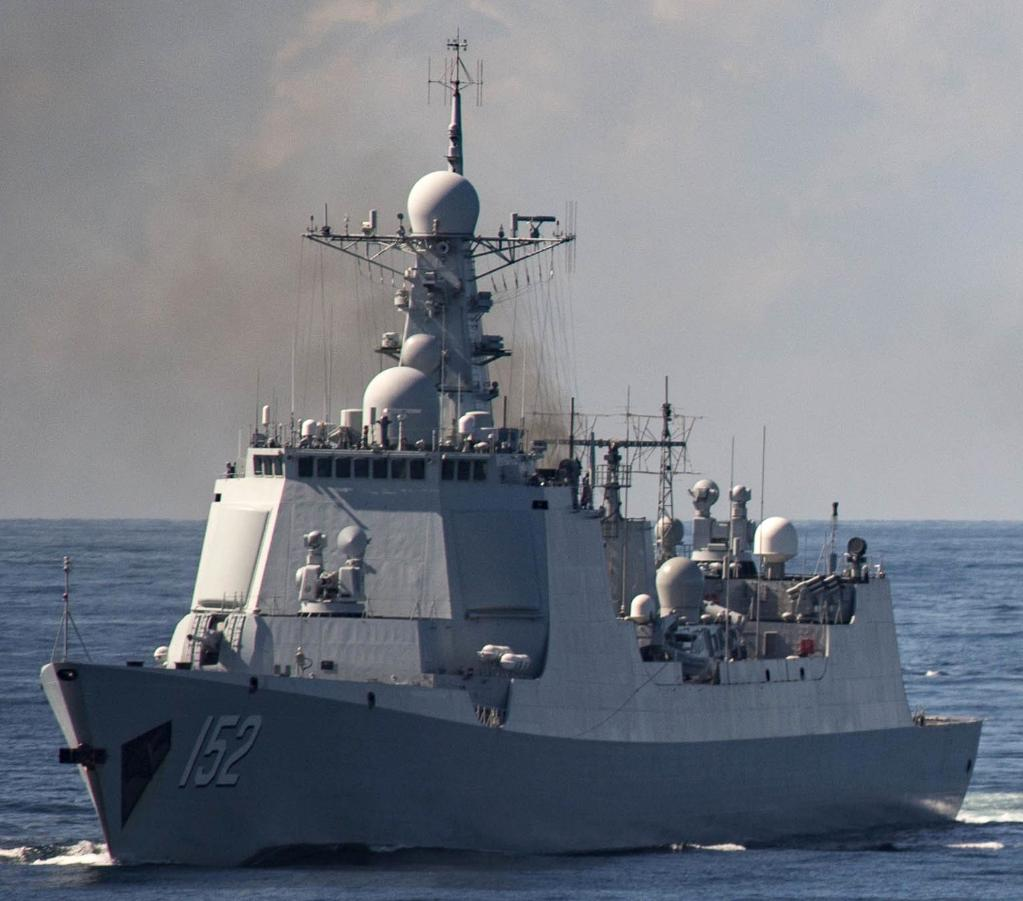Warship: (23, 44, 986, 872)
